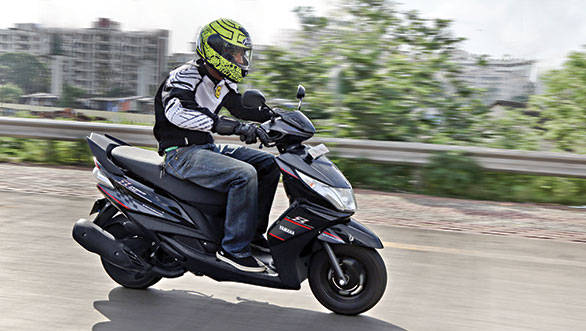with_helmet: (195, 18, 253, 87)
